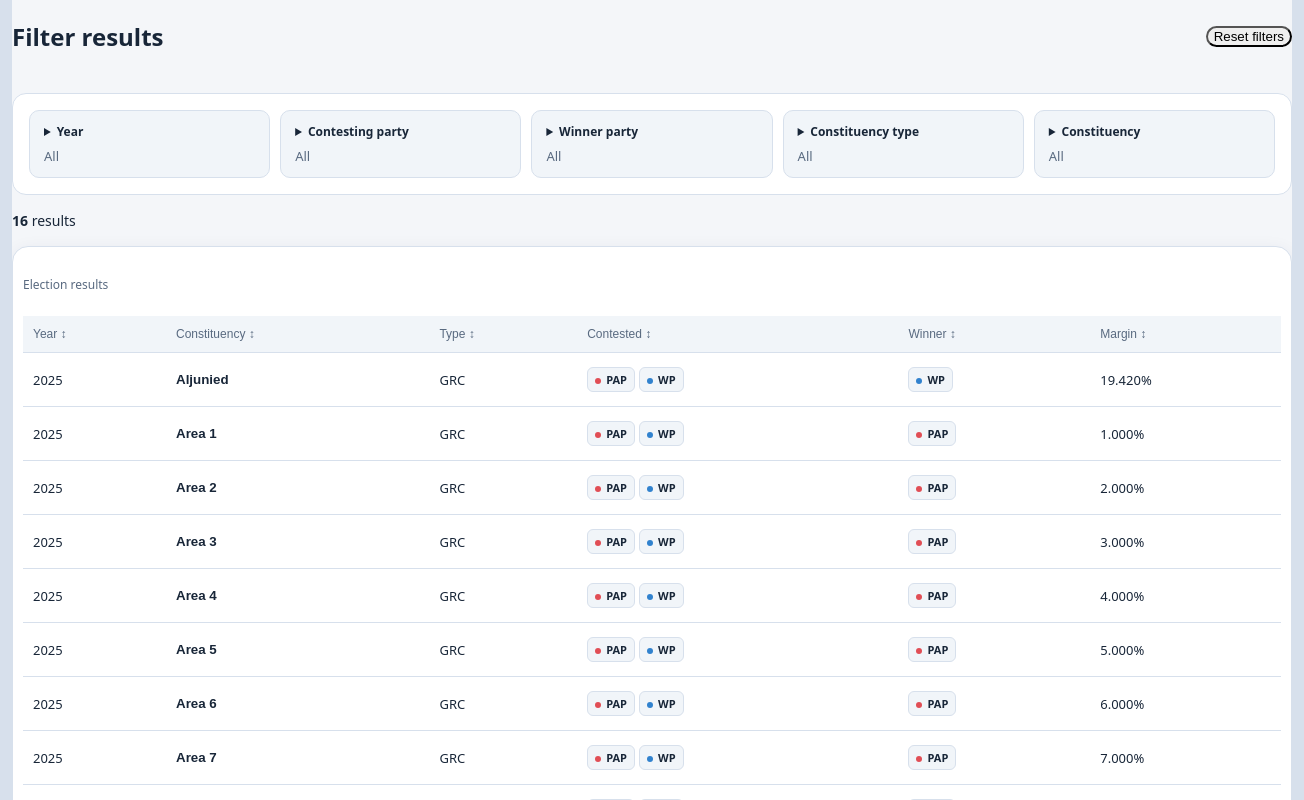
Test: clicking a result row opens its candidate details and closing returns to its accessible button
This screenshot has width=1304, height=800.
Click the text "GRC" in the row of "19.420%": (503, 380) [430, 352, 577, 406]
(page scrolled)
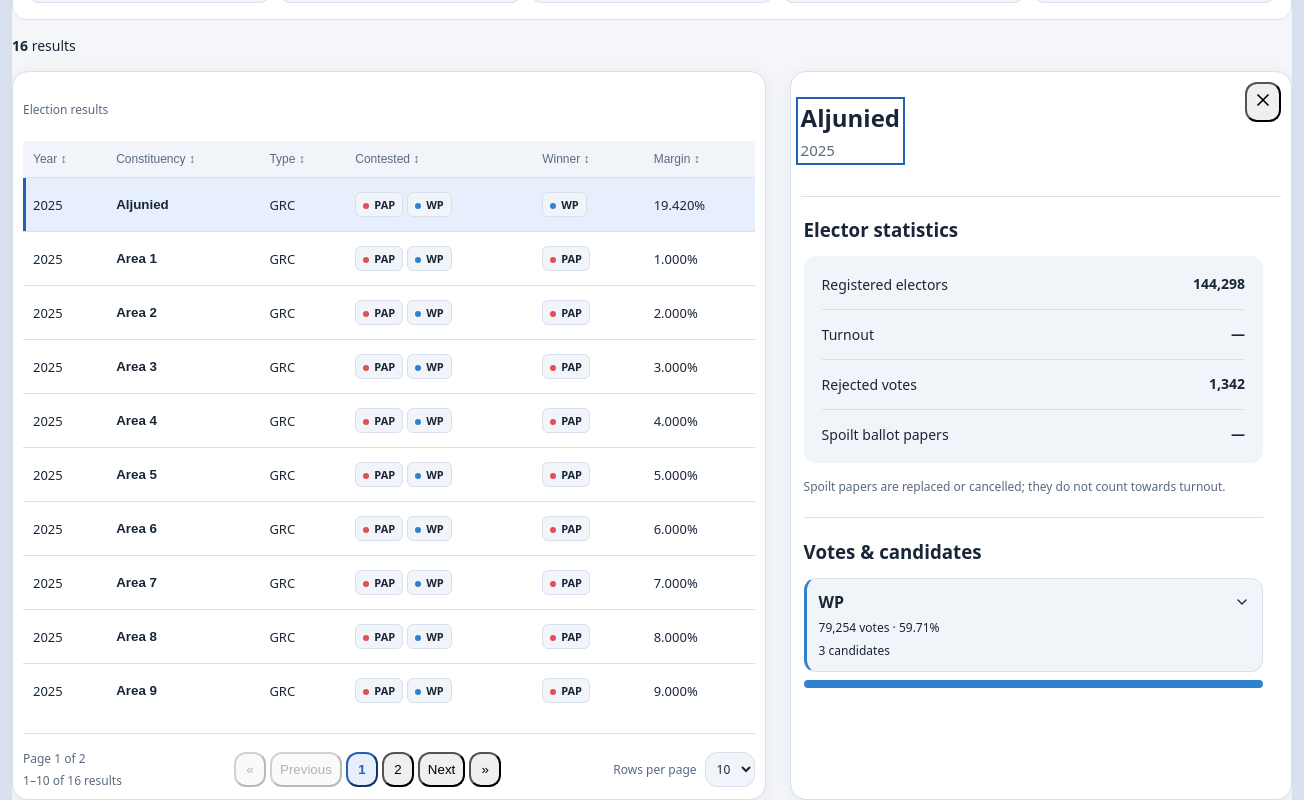
Click the text "3 candidates": (854, 650) [819, 642, 890, 659]
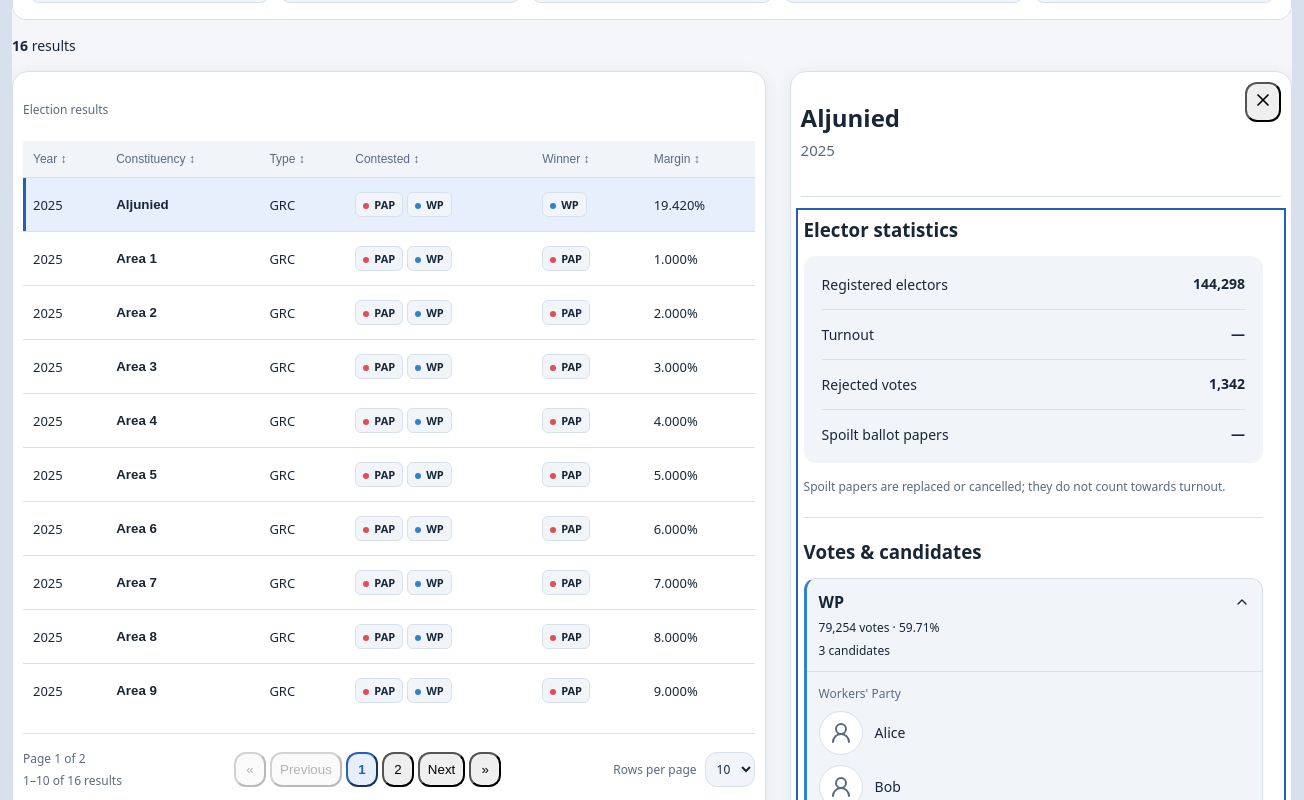
expect the text "79,254 votes · 59.71%" is shown: met, box [819, 619, 940, 636]
expect the text "Alice" is shown: met, box [875, 722, 905, 744]
expect the text "Bob" is shown: met, box [875, 776, 901, 798]
Click the button named "Close constituency details": (1263, 102) [1245, 82, 1281, 122]
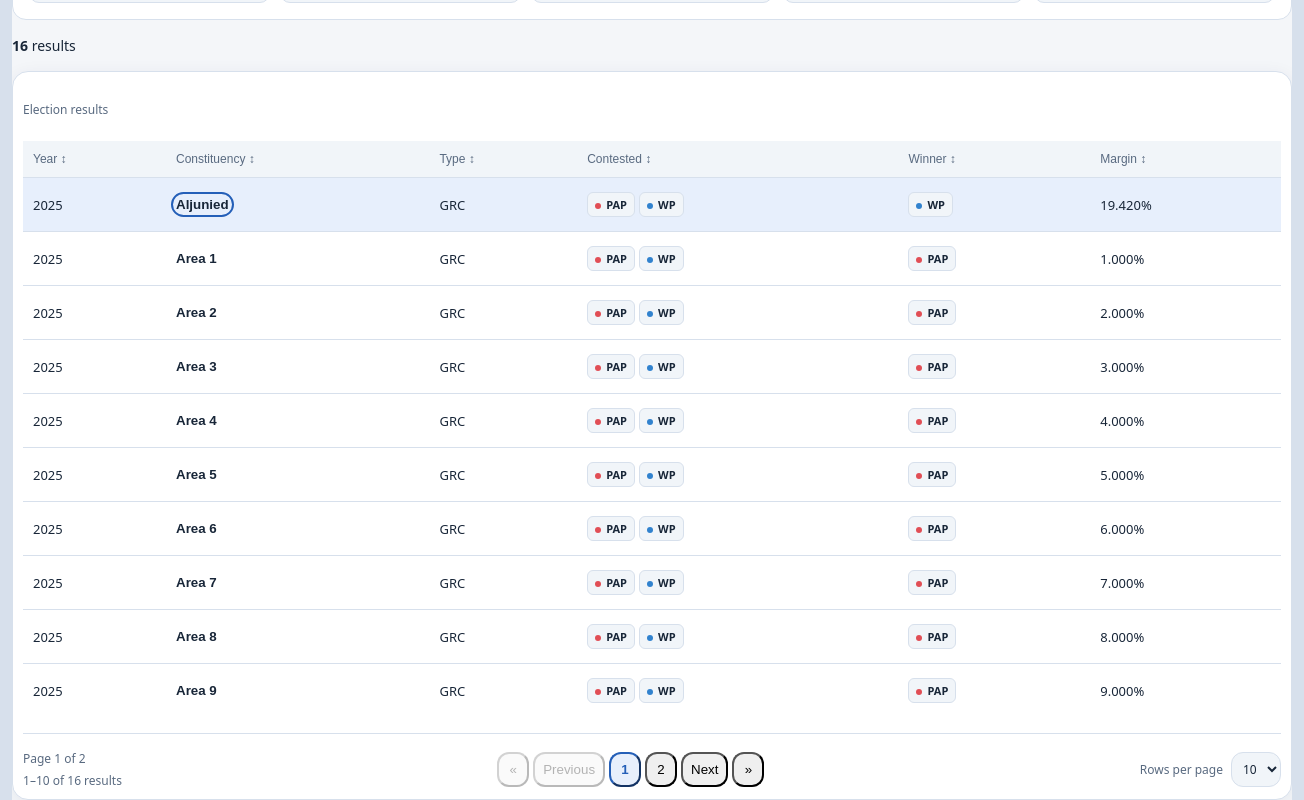
Press Enter
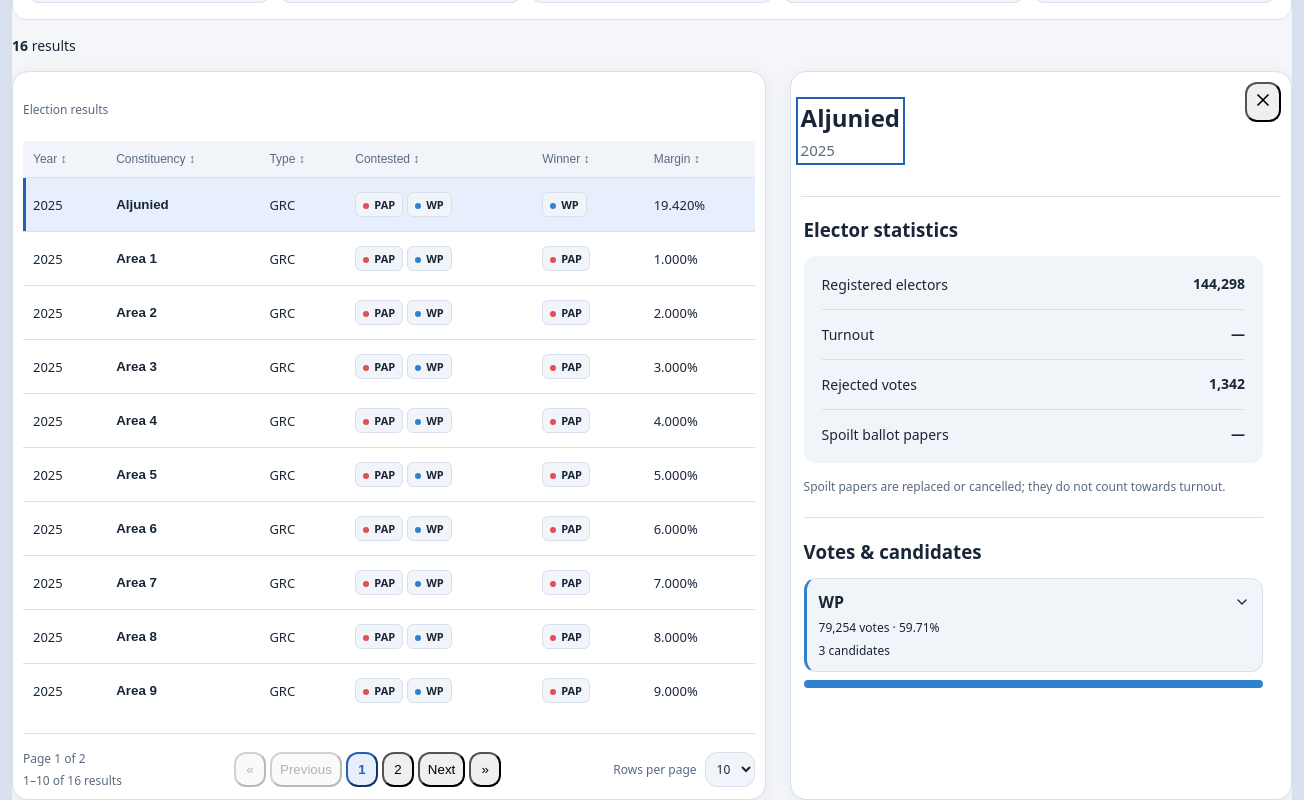
expect the element "Aljunied 2025" is shown: met, box [790, 71, 1292, 799]
